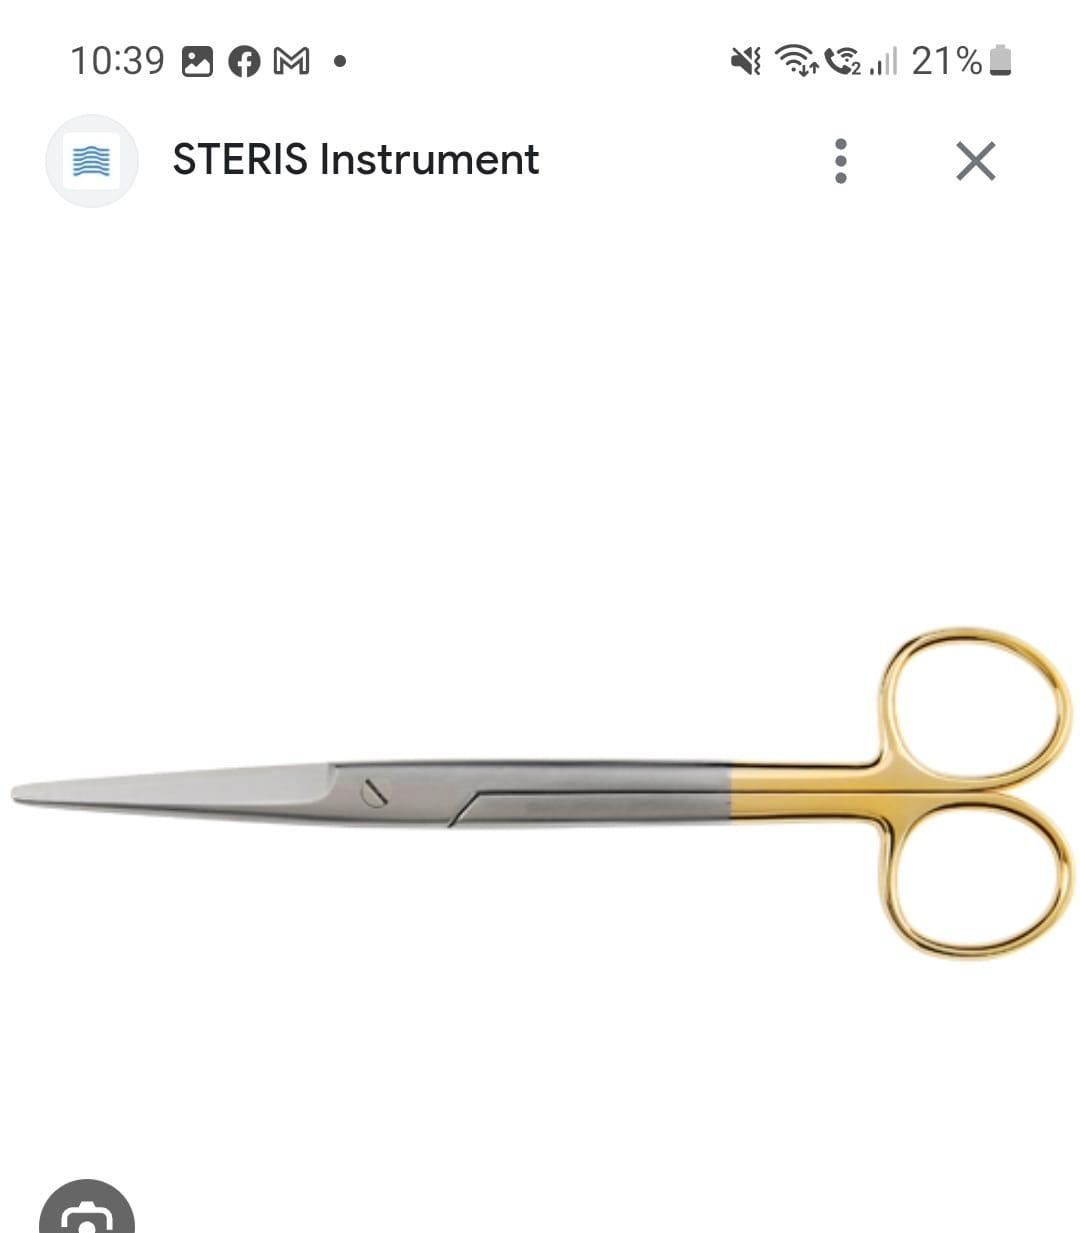Straight Mayo: (4, 558, 1080, 1016)
